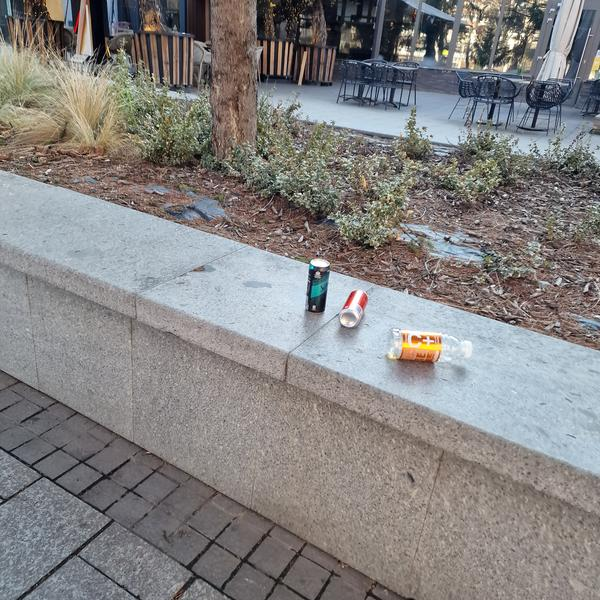can: (335, 284, 374, 333), (304, 257, 330, 315)
plastic_bottle: (388, 328, 473, 361)
